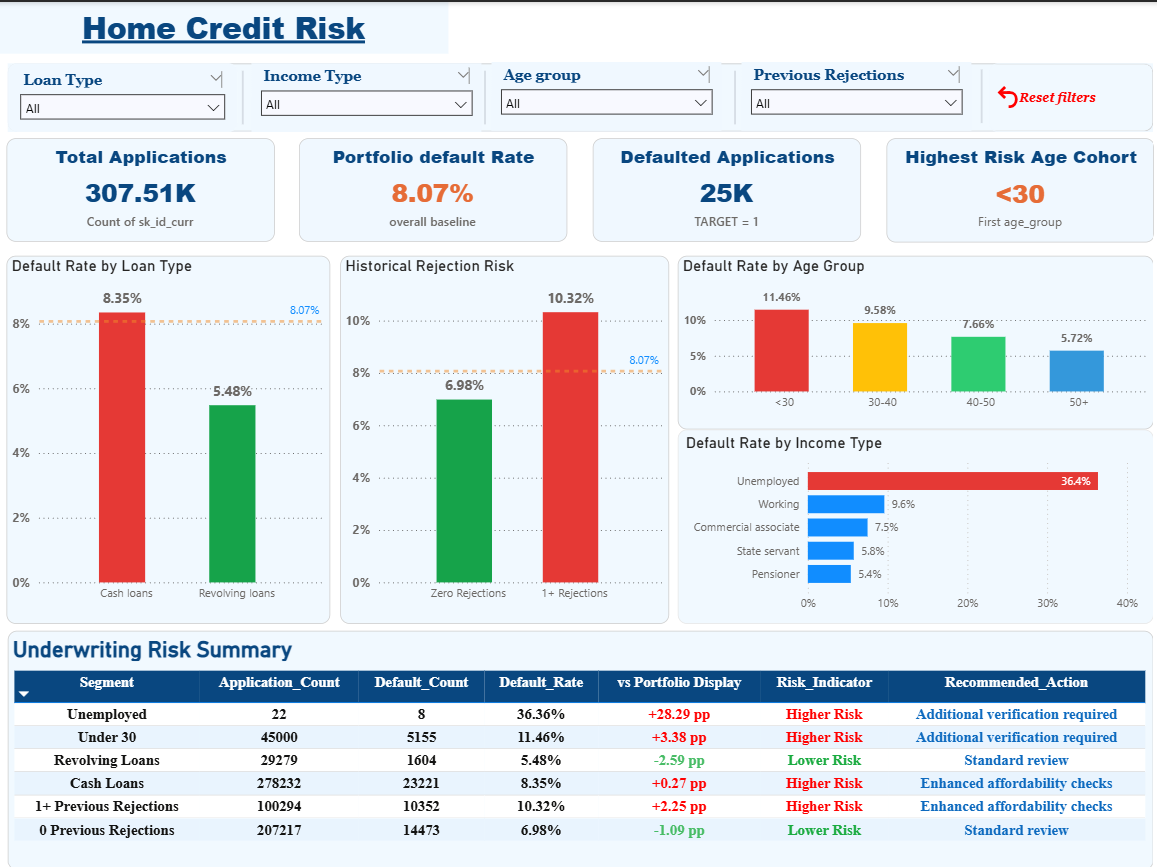

The dashboard page shown, as its layout file describes it:
{"tool":"powerbi","page":{"name":"Report","canvas":[1260,940],"ordinal":0},"visuals":[{"type":"textbox","box":[0,0,486,56],"z":0},{"type":"card","title":"Total Applications","fields":{"Values":["Count(output.sk_id_curr)"]},"box":[8,148,290,112],"z":1000},{"type":"card","title":"Defaulted Applications","fields":{"Values":["output.Count_Default"]},"box":[643,148,290,112],"z":2000},{"type":"card","title":"Highest Risk Age Cohort","fields":{"Values":["Min(output.age_group)"]},"box":[960,147.5,290,112.5],"z":3000},{"type":"card","title":"Portfolio default Rate","fields":{"Values":["output.def_rate_per"]},"box":[325,148,290,112],"z":4000},{"type":"clusteredColumnChart","title":"Default Rate by Loan Type","fields":{"Category":["output.name_contract_type"],"Y":["output.overall dr %"]},"box":[7.5,274.7,350,398.8],"z":5000},{"type":"clusteredColumnChart","title":"Historical Rejection Risk","fields":{"Category":["output.Rejection Category"],"Y":["output.overall dr %"]},"box":[368.8,274.7,356.2,398.8],"z":6000},{"type":"clusteredColumnChart","title":"Default Rate by Age Group","fields":{"Category":["output.age_group"],"Y":["output.overall dr %"]},"box":[734.6,274.6,515.5,188.1],"z":7000},{"type":"clusteredBarChart","title":"Default Rate by Income Type","fields":{"Category":["output.name_income_type"],"Y":["output.overall dr %"]},"box":[735,463,515,210],"z":8000},{"type":"tableEx","title":"Underwriting Risk Summary","fields":{"Values":["Risk Summary Segments.Segment","Risk Summary Segments.Application_Count","Risk Summary Segments.Default_Count","Risk Summary Segments.Default_Rate","Risk Summary Segments.vs Portfolio Display","Risk Summary Segments.Risk_Indicator","Risk Summary Segments.Recommended_Action"]},"box":[10,680,1240,260],"z":9000},{"type":"shape","box":[10,66,1240,74],"z":9001},{"type":"slicer","fields":{"Values":["output.name_contract_type"]},"box":[10,66,249,74],"z":9002},{"type":"slicer","fields":{"Values":["output.name_income_type"]},"box":[273,66,249,74],"z":9003},{"type":"slicer","fields":{"Values":["output.age_group"]},"box":[533,65,249,74],"z":9004},{"type":"slicer","fields":{"Values":["output.Rejection Category"]},"box":[804,65,249,74],"z":9005},{"type":"actionButton","box":[1072,66,178,74],"z":9006},{"type":"shape","box":[254,74,19,58],"z":9007},{"type":"shape","box":[1053,73,22,58],"z":9008},{"type":"shape","box":[780,74,32,58],"z":9009},{"type":"shape","box":[520,74,13,58],"z":9010}]}

Visuals, with their boxes in screenshot pixels (x1, y1, x2, y2), scaled from the page's 1260x940 canvas onto the 1157x867 screenshot:
textbox: 0:0:446:52
"Total Applications" card: 7:137:274:240
"Defaulted Applications" card: 590:137:857:240
"Highest Risk Age Cohort" card: 882:136:1148:240
"Portfolio default Rate" card: 298:137:565:240
"Default Rate by Loan Type" clusteredColumnChart: 7:253:328:621
"Historical Rejection Risk" clusteredColumnChart: 339:253:666:621
"Default Rate by Age Group" clusteredColumnChart: 675:253:1148:427
"Default Rate by Income Type" clusteredBarChart: 675:427:1148:621
"Underwriting Risk Summary" tableEx: 9:627:1148:866
shape: 9:61:1148:129
slicer - output.name_contract_type: 9:61:238:129
slicer - output.name_income_type: 251:61:479:129
slicer - output.age_group: 489:60:718:128
slicer - output.Rejection Category: 738:60:967:128
actionButton: 984:61:1148:129
shape: 233:68:251:122
shape: 967:67:987:121
shape: 716:68:746:122
shape: 477:68:489:122
